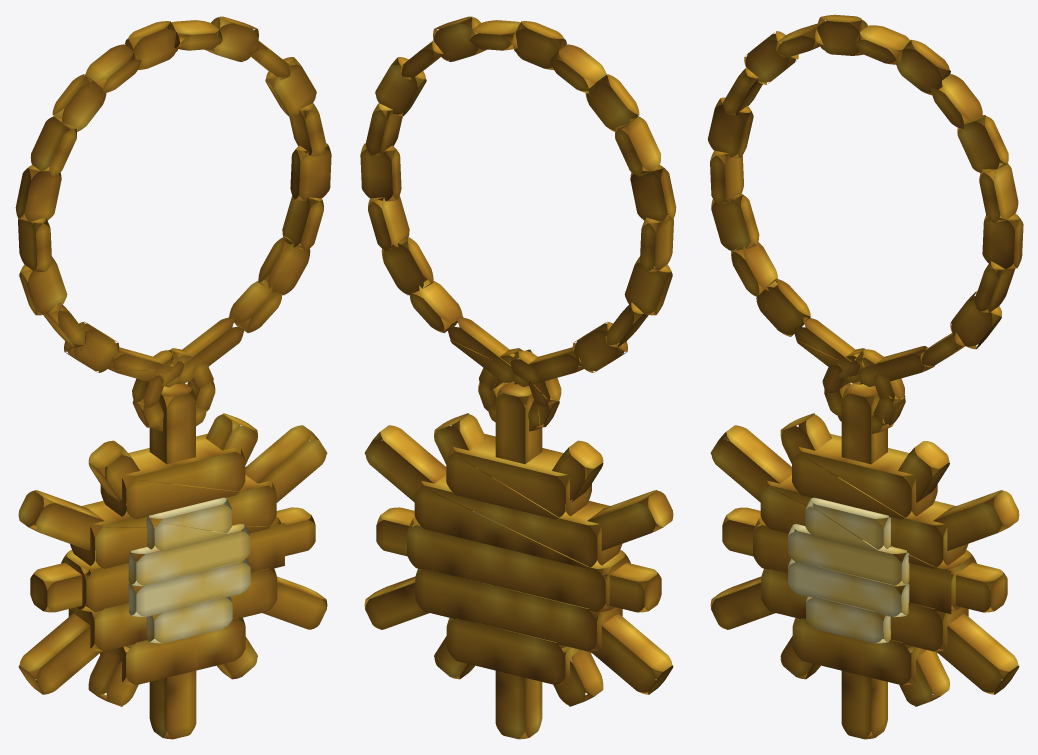
File: legion_sun_disc.obj
The picture shows the model from 3 angles, left to right: view 1: azimuth 30°, elevation 25°; view 2: azimuth 150°, elevation 25°; view 3: azimuth 330°, elevation 25°; orthographic projection.
Parts seen in each view (by area): view 1: lit, fire; view 2: lit; view 3: lit, fire.
Part boxes in pixels (x1,y1,x2,y2): lit: [15, 16, 331, 739]; fire: [128, 497, 250, 643]; lit: [360, 16, 676, 739]; lit: [708, 14, 1023, 739]; fire: [788, 497, 912, 643].
Size of the model in its own units: 0.526 by 1.15 by 0.1001.
